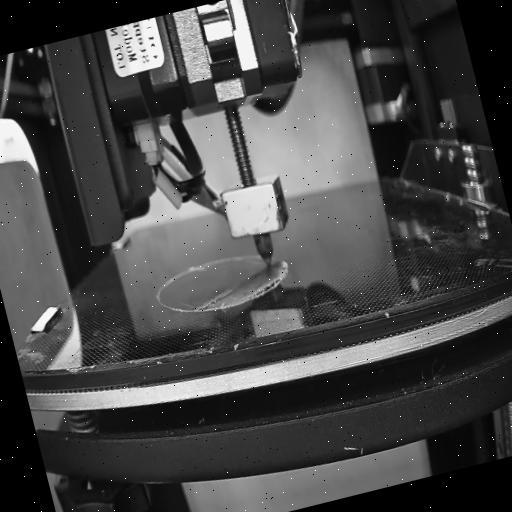under_extrusion: (194, 285, 238, 316), (251, 272, 290, 304)
